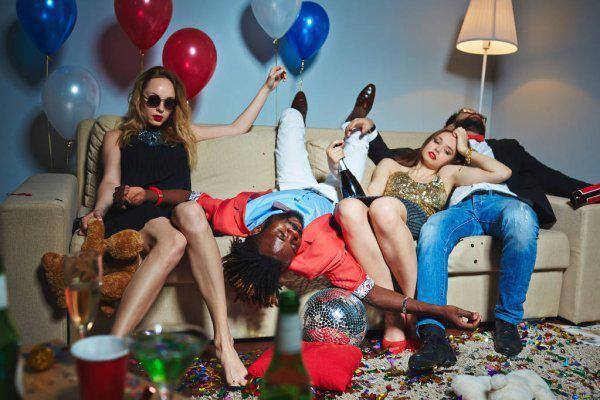Drunk: (258, 216, 304, 258), (142, 75, 174, 125), (426, 127, 452, 165)
